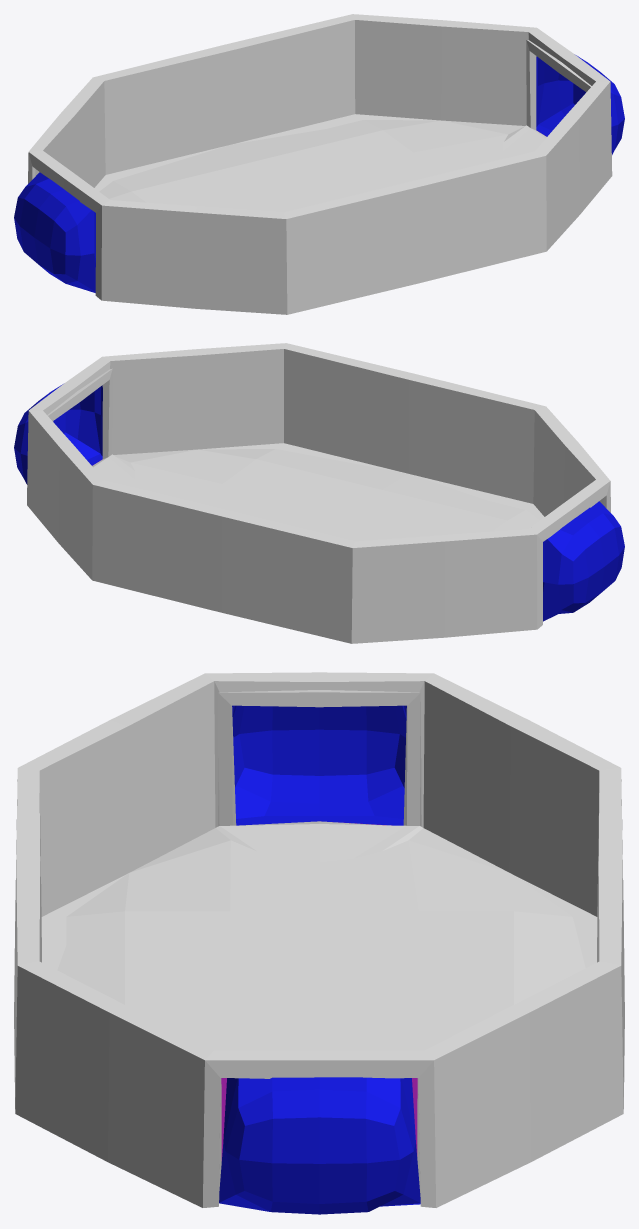
File: Octogone3.fbx
3 renders of one model, top to bottom at view 1: azimuth 30°, elevation 25°; view 2: azimuth 150°, elevation 25°; view 3: azimuth 270°, elevation 25°, orthographic. The views are drawn at different scales.
Visible parts, largest first — view 1: octogone, goal; view 2: octogone, goal; view 3: octogone, goal.
Part boxes in pixels (x1=…): octogone: x1=28, y1=14, x2=612, y2=314; goal: x1=14, y1=55, x2=624, y2=292; octogone: x1=27, y1=343, x2=610, y2=643; goal: x1=14, y1=384, x2=624, y2=621; octogone: x1=14, y1=672, x2=624, y2=1207; goal: x1=219, y1=705, x2=420, y2=1214.
Size of the model in its own units: 84.91 by 13.65 by 50.5.
